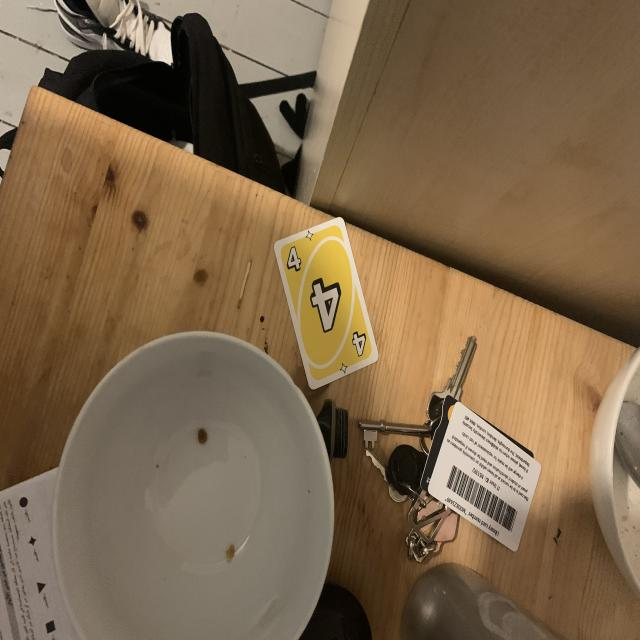lyellow-4: (282, 241, 306, 275)
